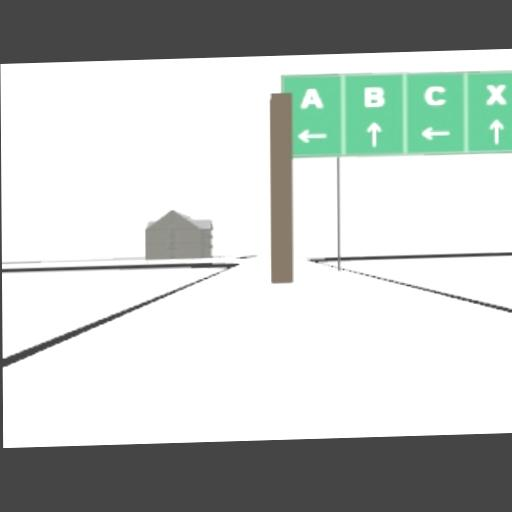A: (300, 87, 324, 109)
B: (363, 86, 384, 108)
C: (423, 85, 446, 107)
Left: (297, 128, 328, 144), (421, 126, 452, 140)
Straight: (488, 118, 504, 145), (367, 122, 383, 148)
X: (485, 84, 506, 105)
